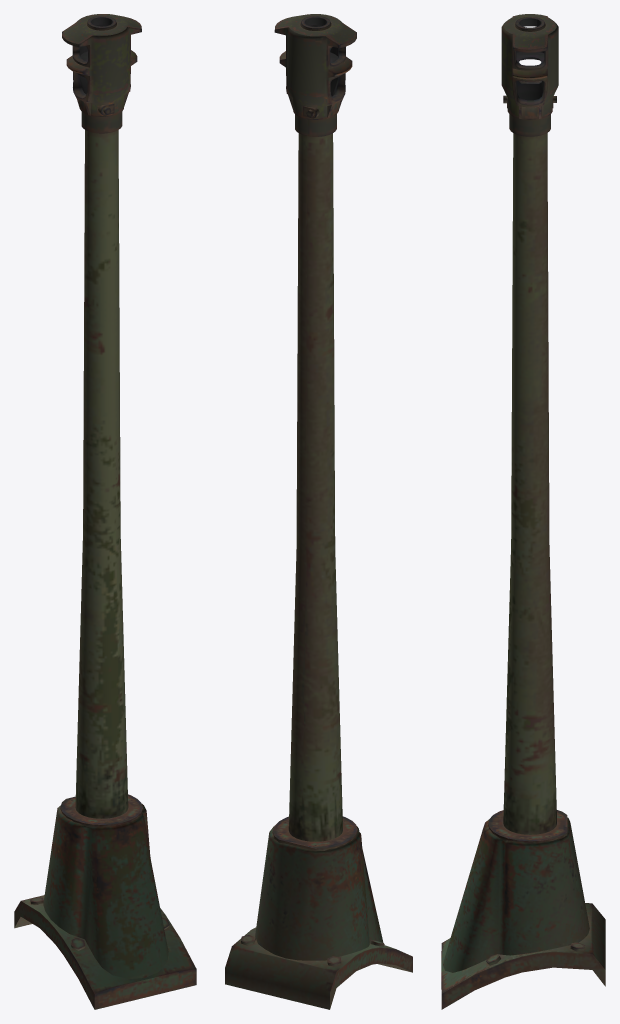
Rendered from Gun_08.glb.
3 renders of one model, left to right at view 1: azimuth 30°, elevation 25°; view 2: azimuth 150°, elevation 25°; view 3: azimuth 270°, elevation 25°, orthographic. The views are drawn at different scales.
Visible parts, largest first — view 1: set_0_group_0; view 2: set_0_group_0; view 3: set_0_group_0.
Boxes of the visible parts, x1=… form: set_0_group_0: x1=14, y1=14, x2=196, y2=1009; set_0_group_0: x1=225, y1=14, x2=412, y2=1009; set_0_group_0: x1=441, y1=14, x2=605, y2=1009.
Bounding box in the file's own units: 0.4668 × 4.12 × 0.6379.
1 material, 1 textured.
